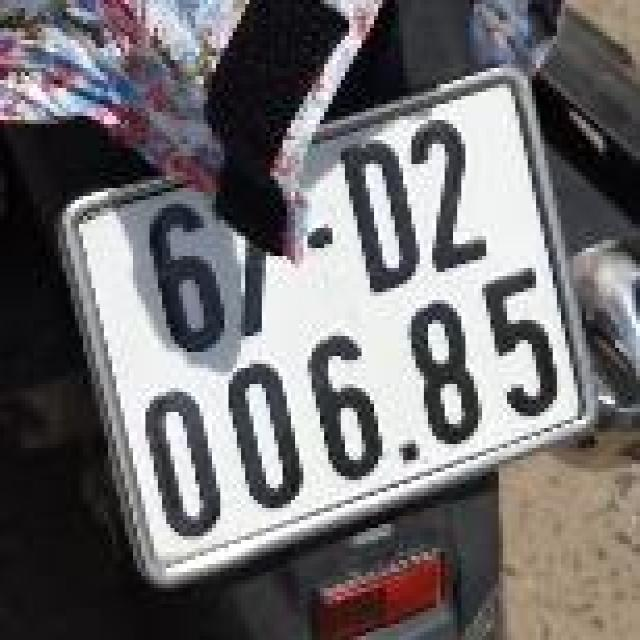0: (125, 369, 235, 551), (210, 345, 316, 520)
2: (395, 102, 507, 284)
5: (463, 258, 580, 436)
6: (297, 324, 399, 491), (140, 191, 235, 369)
7: (228, 166, 312, 354)
8: (397, 285, 503, 460)
D: (327, 129, 429, 305)
